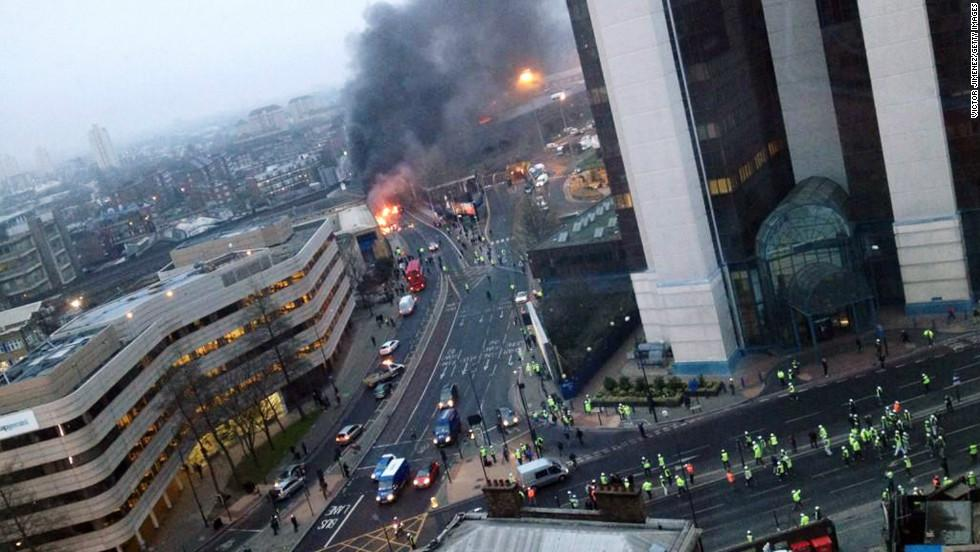fire: (375, 205, 403, 228), (518, 65, 540, 85)
smoke: (352, 8, 498, 148), (504, 8, 565, 50), (364, 148, 435, 182)
